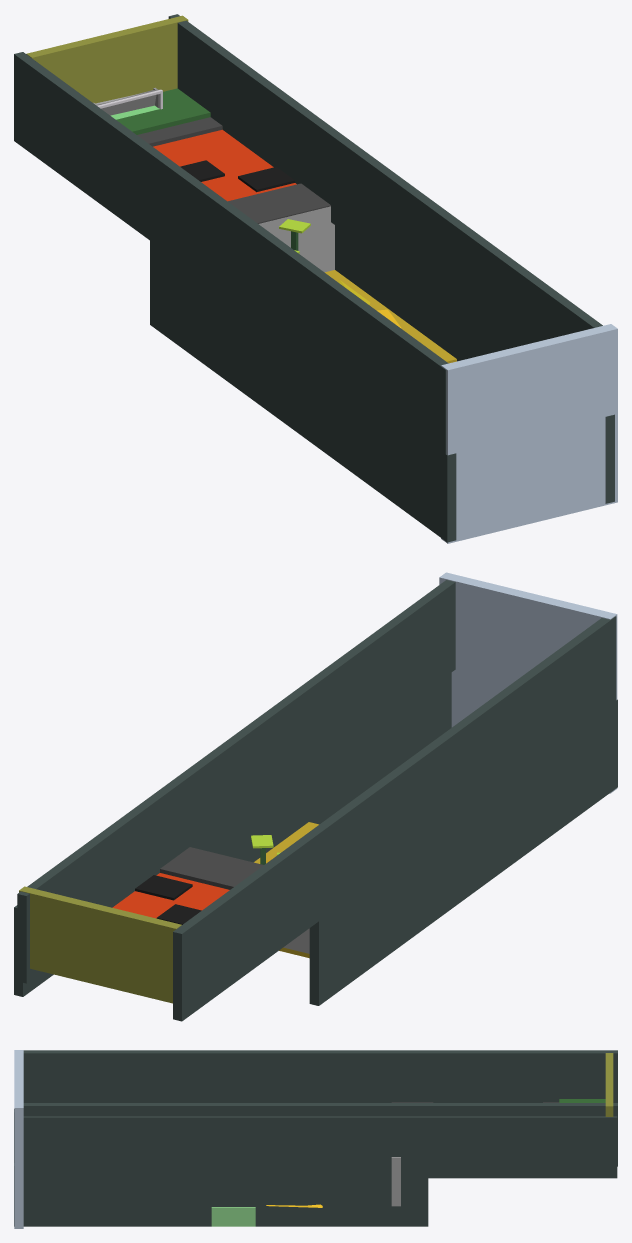
Rendered from level4.gltf.
3 views of the same model, one above another, from view 1: azimuth 30°, elevation 25°; view 2: azimuth 150°, elevation 25°; view 3: azimuth 270°, elevation 25° (orthographic). The views are drawn at different scales.
Visible parts, largest first — view 1: Cube.025, Cube.064, Cube.014, Cube.002, Cube.069, Cube.003, Cube.068, Cube.030, Cube.066, Cube.073, Cube.072, Cube.027 (+1 smaller); view 2: Cube.025, Cube.064, Cube.002, Cube.014, Cube.069, Cube.003, Cube.066, Cube.068, Platform1, Cube.026, Cube.027; view 3: Cube.026, Cube.025, Cube.003, Cube.064, Cube.014, Cube, Cube.069, Cube.030.
Boxes of the visible parts, <box> form: Cube.025: <box>14,52,448,454</box>; Cube.064: <box>168,14,602,349</box>; Cube.014: <box>441,324,617,543</box>; Cube.002: <box>150,238,456,542</box>; Cube.069: <box>26,15,188,103</box>; Cube.003: <box>335,225,614,503</box>; Cube.068: <box>153,129,296,201</box>; Cube.030: <box>259,206,334,272</box>; Cube.066: <box>228,183,330,223</box>; Cube.073: <box>116,88,210,134</box>; Cube.072: <box>137,117,222,146</box>; Cube.027: <box>325,270,456,363</box>; Cube.025: <box>173,616,616,1021</box>; Cube.064: <box>17,580,455,983</box>; Cube.002: <box>309,699,617,1005</box>; Cube.014: <box>439,572,617,793</box>; Cube.069: <box>19,886,181,1003</box>; Cube.003: <box>207,672,451,862</box>; Cube.066: <box>160,847,263,889</box>; Cube.068: <box>112,873,229,918</box>; Platform1: <box>135,875,192,900</box>; Cube.026: <box>14,905,53,996</box>; Cube.027: <box>254,822,318,958</box>; Cube.026: <box>23,1116,617,1178</box>; Cube.025: <box>23,1050,617,1102</box>; Cube.003: <box>14,1163,428,1226</box>; Cube.064: <box>23,1103,617,1166</box>; Cube.014: <box>14,1050,23,1228</box>; Cube: <box>211,1207,255,1226</box>; Cube.069: <box>605,1053,613,1116</box>; Cube.030: <box>391,1157,400,1206</box>.
Size of what is drawn, in the model's own units: 275 by 264 by 1190.
